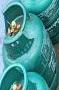cylinder: (1, 0, 59, 90)
